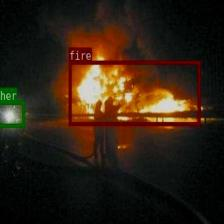fire: (69, 60, 200, 125)
